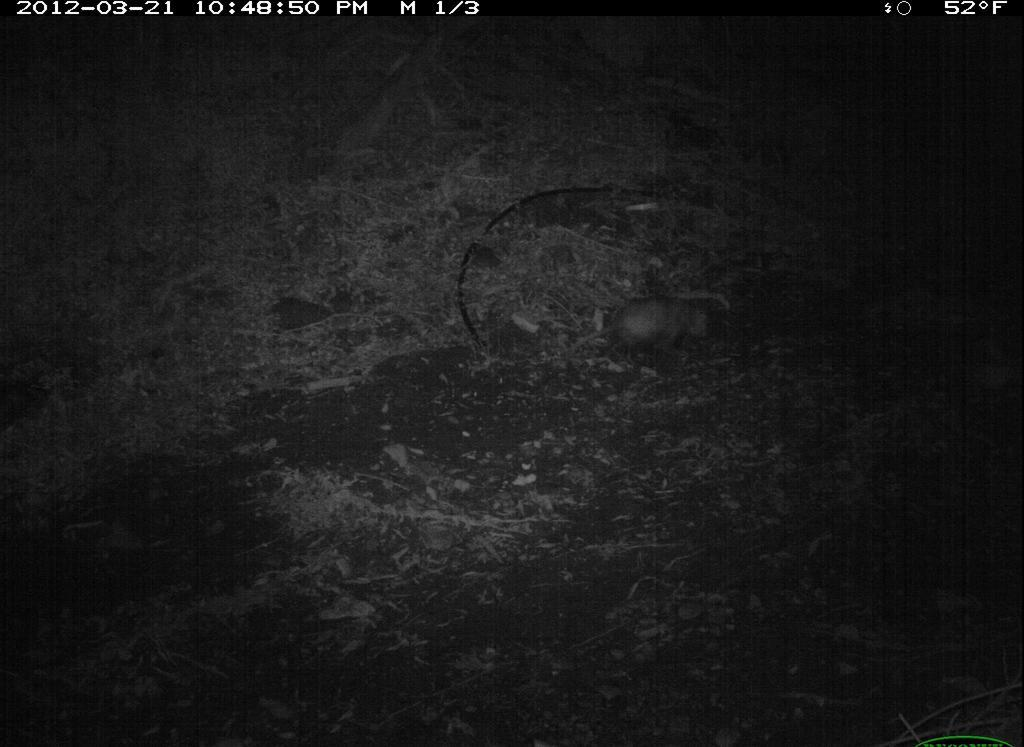opossum: (555, 287, 726, 364)
